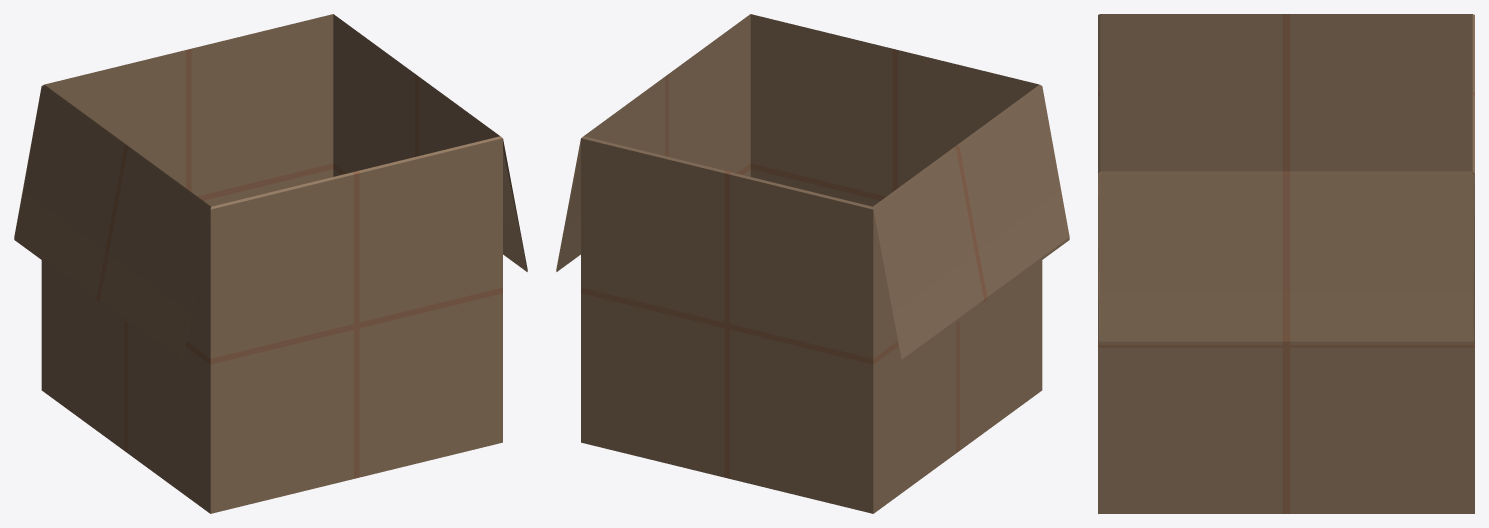
File: cardboard_box.fbx
3 views of the same model, side by side, from view 1: azimuth 30°, elevation 25°; view 2: azimuth 150°, elevation 25°; view 3: azimuth 270°, elevation 25° (orthographic). The views are drawn at different scales.
Parts seen in each view (by area): view 1: Cube.001; view 2: Cube.001; view 3: Cube.001.
Part boxes in pixels (x1=…): Cube.001: x1=14, y1=14, x2=527, y2=513; Cube.001: x1=556, y1=14, x2=1069, y2=513; Cube.001: x1=1098, y1=14, x2=1474, y2=513.
Bounding box in the file's own units: 119 × 101 × 101.
